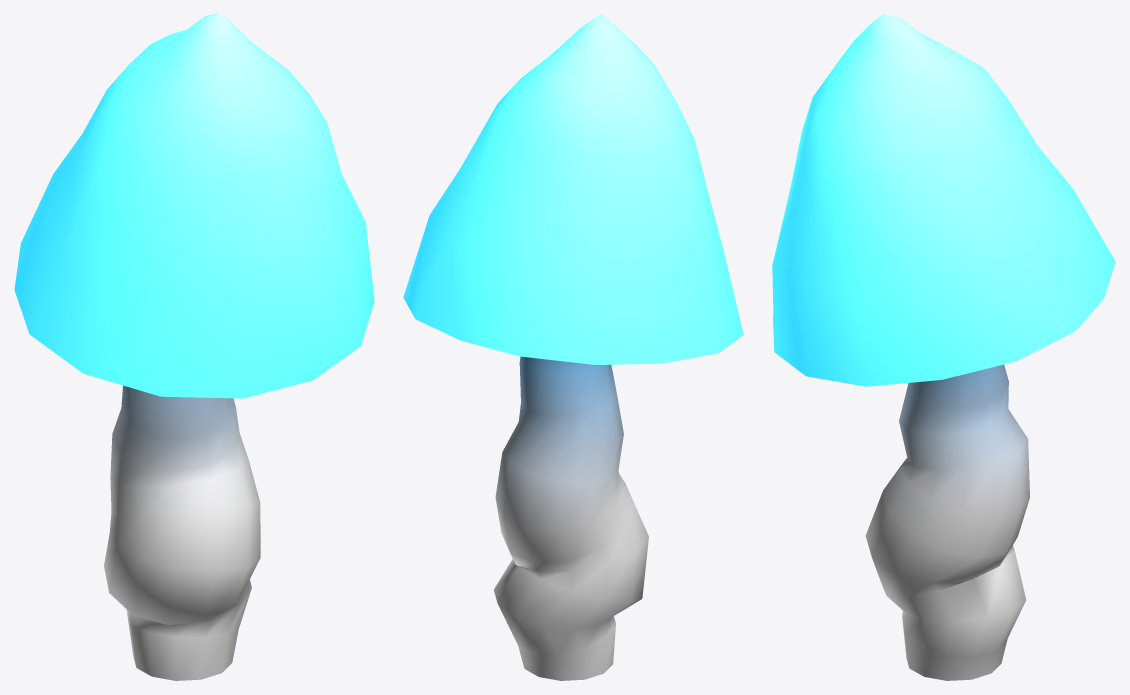
The model's file is mushroom_4.glb.
3 renders of one model, left to right at view 1: azimuth 30°, elevation 25°; view 2: azimuth 150°, elevation 25°; view 3: azimuth 270°, elevation 25°, orthographic. The views are drawn at different scales.
Visible parts, largest first — view 1: geo1; view 2: geo1; view 3: geo1.
Part boxes in pixels (x1,y1,x2,y2): geo1: (14, 14, 374, 680); geo1: (403, 14, 743, 680); geo1: (772, 14, 1115, 680).
Size of the model in its own units: 0.1866 by 0.3827 by 0.184.
